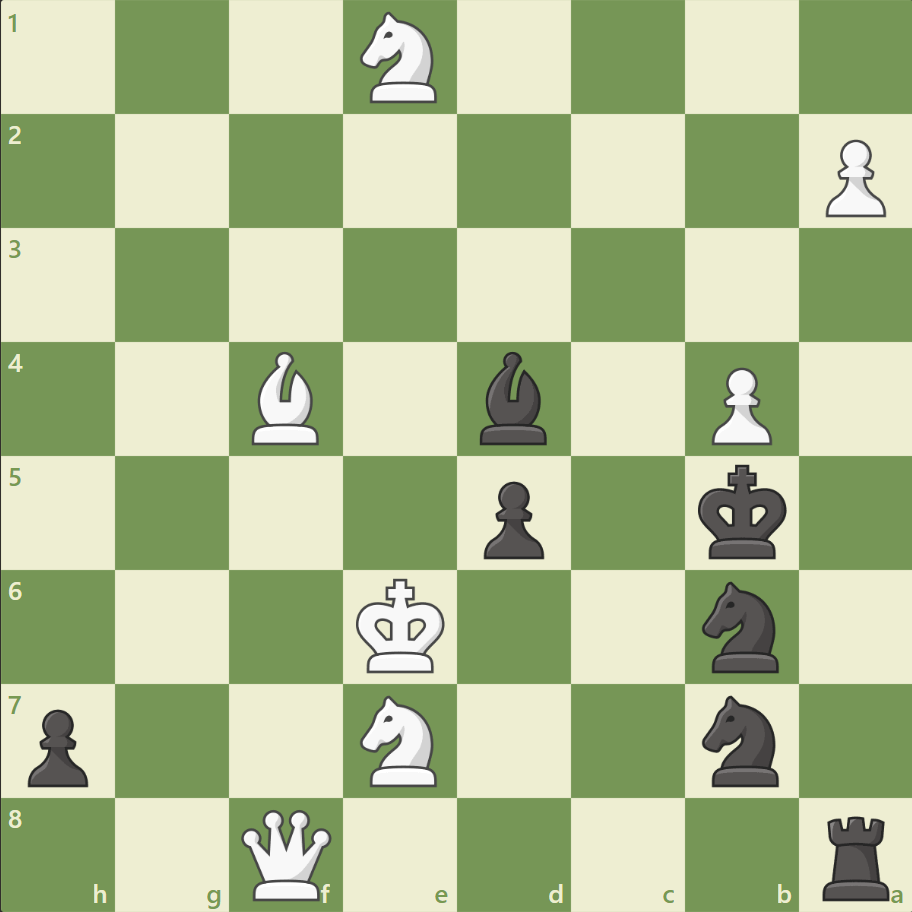B: (244, 347, 328, 449)
K: (351, 571, 451, 679)
N: (351, 688, 449, 791), (351, 7, 449, 110)
P: (701, 359, 776, 450), (815, 132, 889, 223)
Q: (237, 804, 336, 903)
b: (471, 347, 555, 449)
k: (692, 458, 792, 566)
n: (692, 688, 789, 791), (692, 575, 789, 677)
p: (20, 700, 95, 791), (474, 473, 549, 564)
r: (814, 806, 897, 904)
